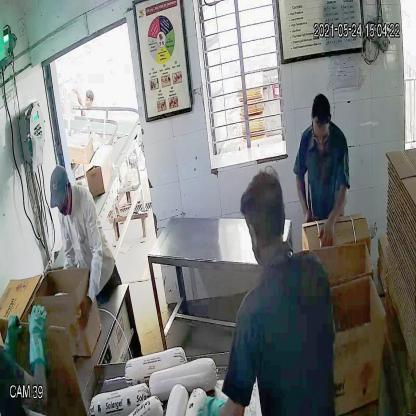goggles: (311, 125, 332, 145)
